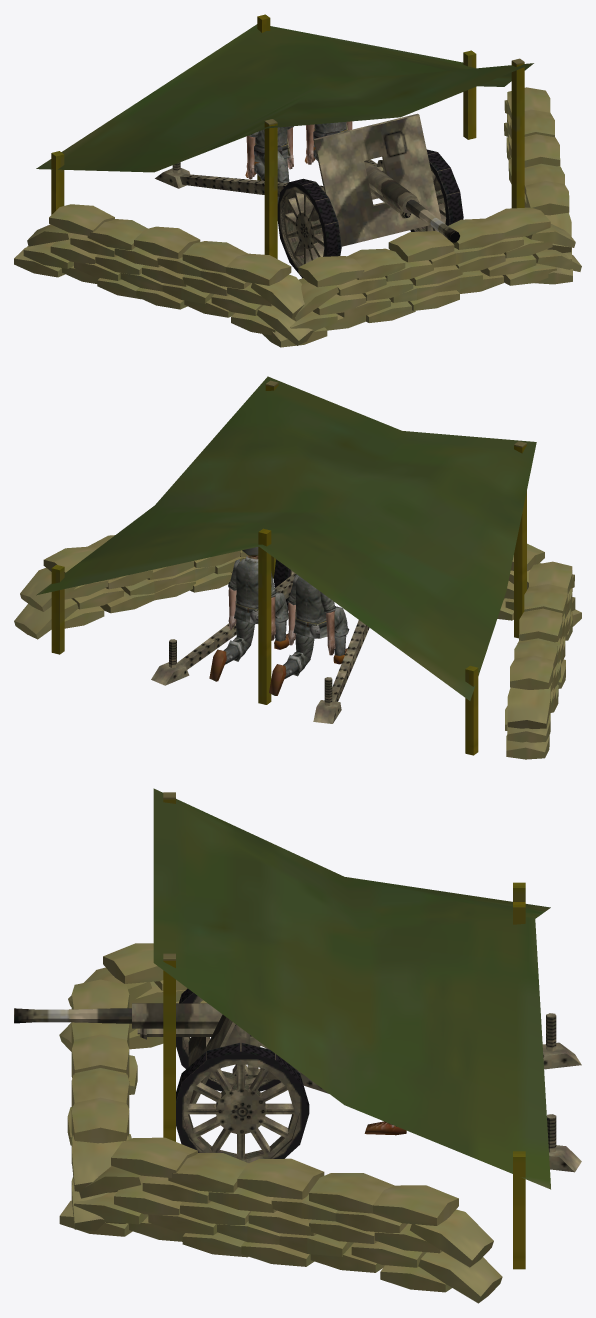
Rendered from ITACannone75_Stationary.dae.
The picture shows the model from 3 angles, top to bottom: view 1: azimuth 30°, elevation 25°; view 2: azimuth 150°, elevation 25°; view 3: azimuth 270°, elevation 25°; orthographic projection. The views are drawn at different scales.
Visible parts, largest first — view 1: base, turret, wheels, trail1, sleeve, barrel, torso1, torso2; view 2: base, trail2, trail1, torso1, torso2; view 3: base, wheels, sleeve, turret, barrel, trail2, trail1.
Boxes of the visible parts, left/top/right/bottom form: base: left=14, top=14, right=581, bottom=347; turret: left=313, top=113, right=441, bottom=246; wheels: left=277, top=149, right=463, bottom=277; trail1: left=155, top=162, right=324, bottom=196; sleeve: left=364, top=160, right=419, bottom=218; barrel: left=405, top=199, right=459, bottom=242; torso1: left=254, top=126, right=290, bottom=163; torso2: left=313, top=122, right=348, bottom=147; base: left=14, top=376, right=581, bottom=759; trail2: left=151, top=573, right=296, bottom=685; trail1: left=313, top=620, right=369, bottom=723; torso1: left=293, top=576, right=327, bottom=638; torso2: left=234, top=556, right=258, bottom=624; base: left=59, top=788, right=550, bottom=1303; wheels: left=176, top=988, right=309, bottom=1162; sleeve: left=132, top=1003, right=261, bottom=1043; turret: left=188, top=1014, right=258, bottom=1103; barrel: left=14, top=1008, right=131, bottom=1023; trail2: left=251, top=1068, right=581, bottom=1172; trail1: left=542, top=1013, right=581, bottom=1069.
Bounding box in the file's own units: 51.33 × 35.73 × 18.15.
